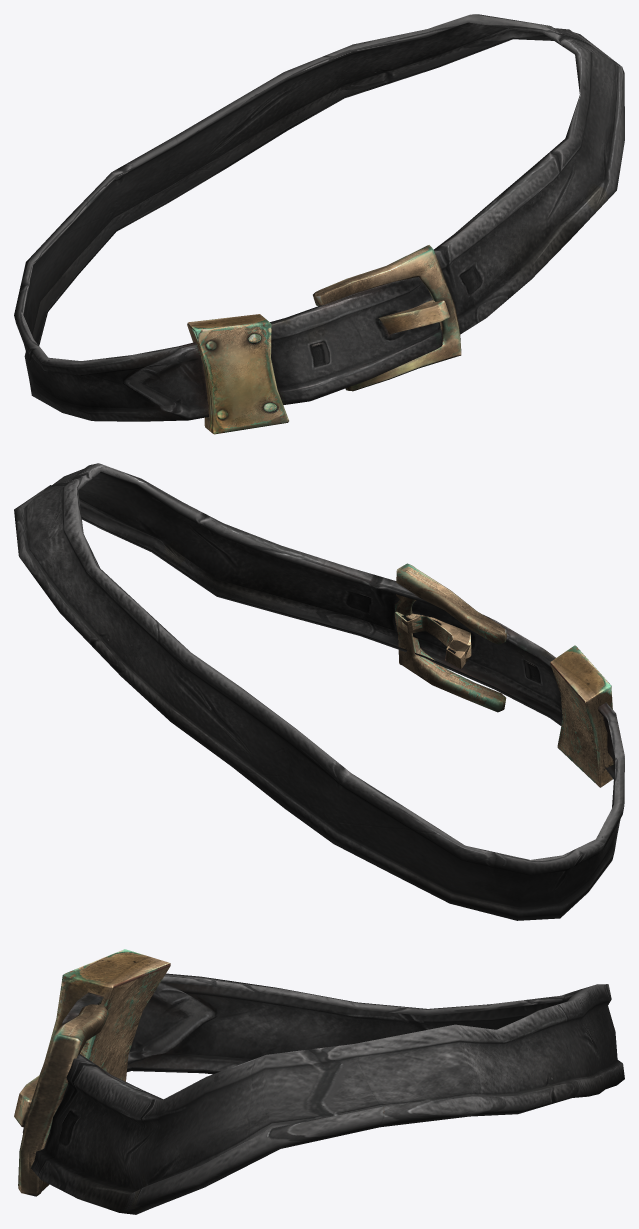
The model's file is sm_dwarf_heodedna_chest_add.gltf.
3 views of the same model, one above another, from view 1: azimuth 30°, elevation 25°; view 2: azimuth 150°, elevation 25°; view 3: azimuth 270°, elevation 25° (orthographic). The views are drawn at different scales.
Visible parts, largest first — view 1: sm_dwarf_heodenda_chest_add; view 2: sm_dwarf_heodenda_chest_add; view 3: sm_dwarf_heodenda_chest_add.
Part boxes in pixels (bbox=[...]): sm_dwarf_heodenda_chest_add: bbox=[14, 14, 624, 434]; sm_dwarf_heodenda_chest_add: bbox=[14, 463, 624, 920]; sm_dwarf_heodenda_chest_add: bbox=[14, 949, 624, 1214].
Size of the model in its own units: 70.13 by 32.77 by 45.96.
1 material, 1 textured.
